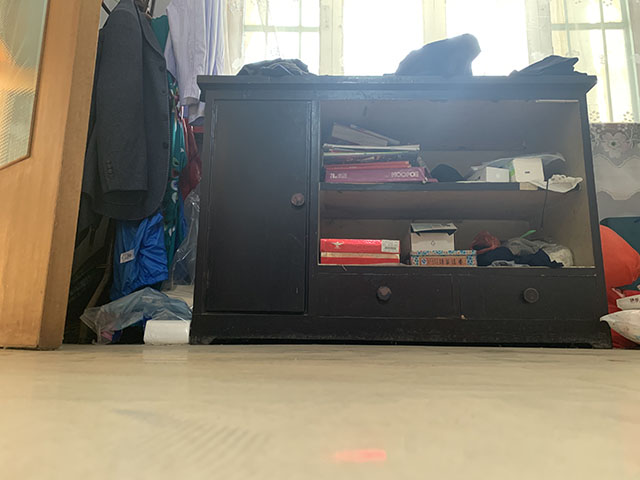cabinet: (186, 71, 616, 348)
